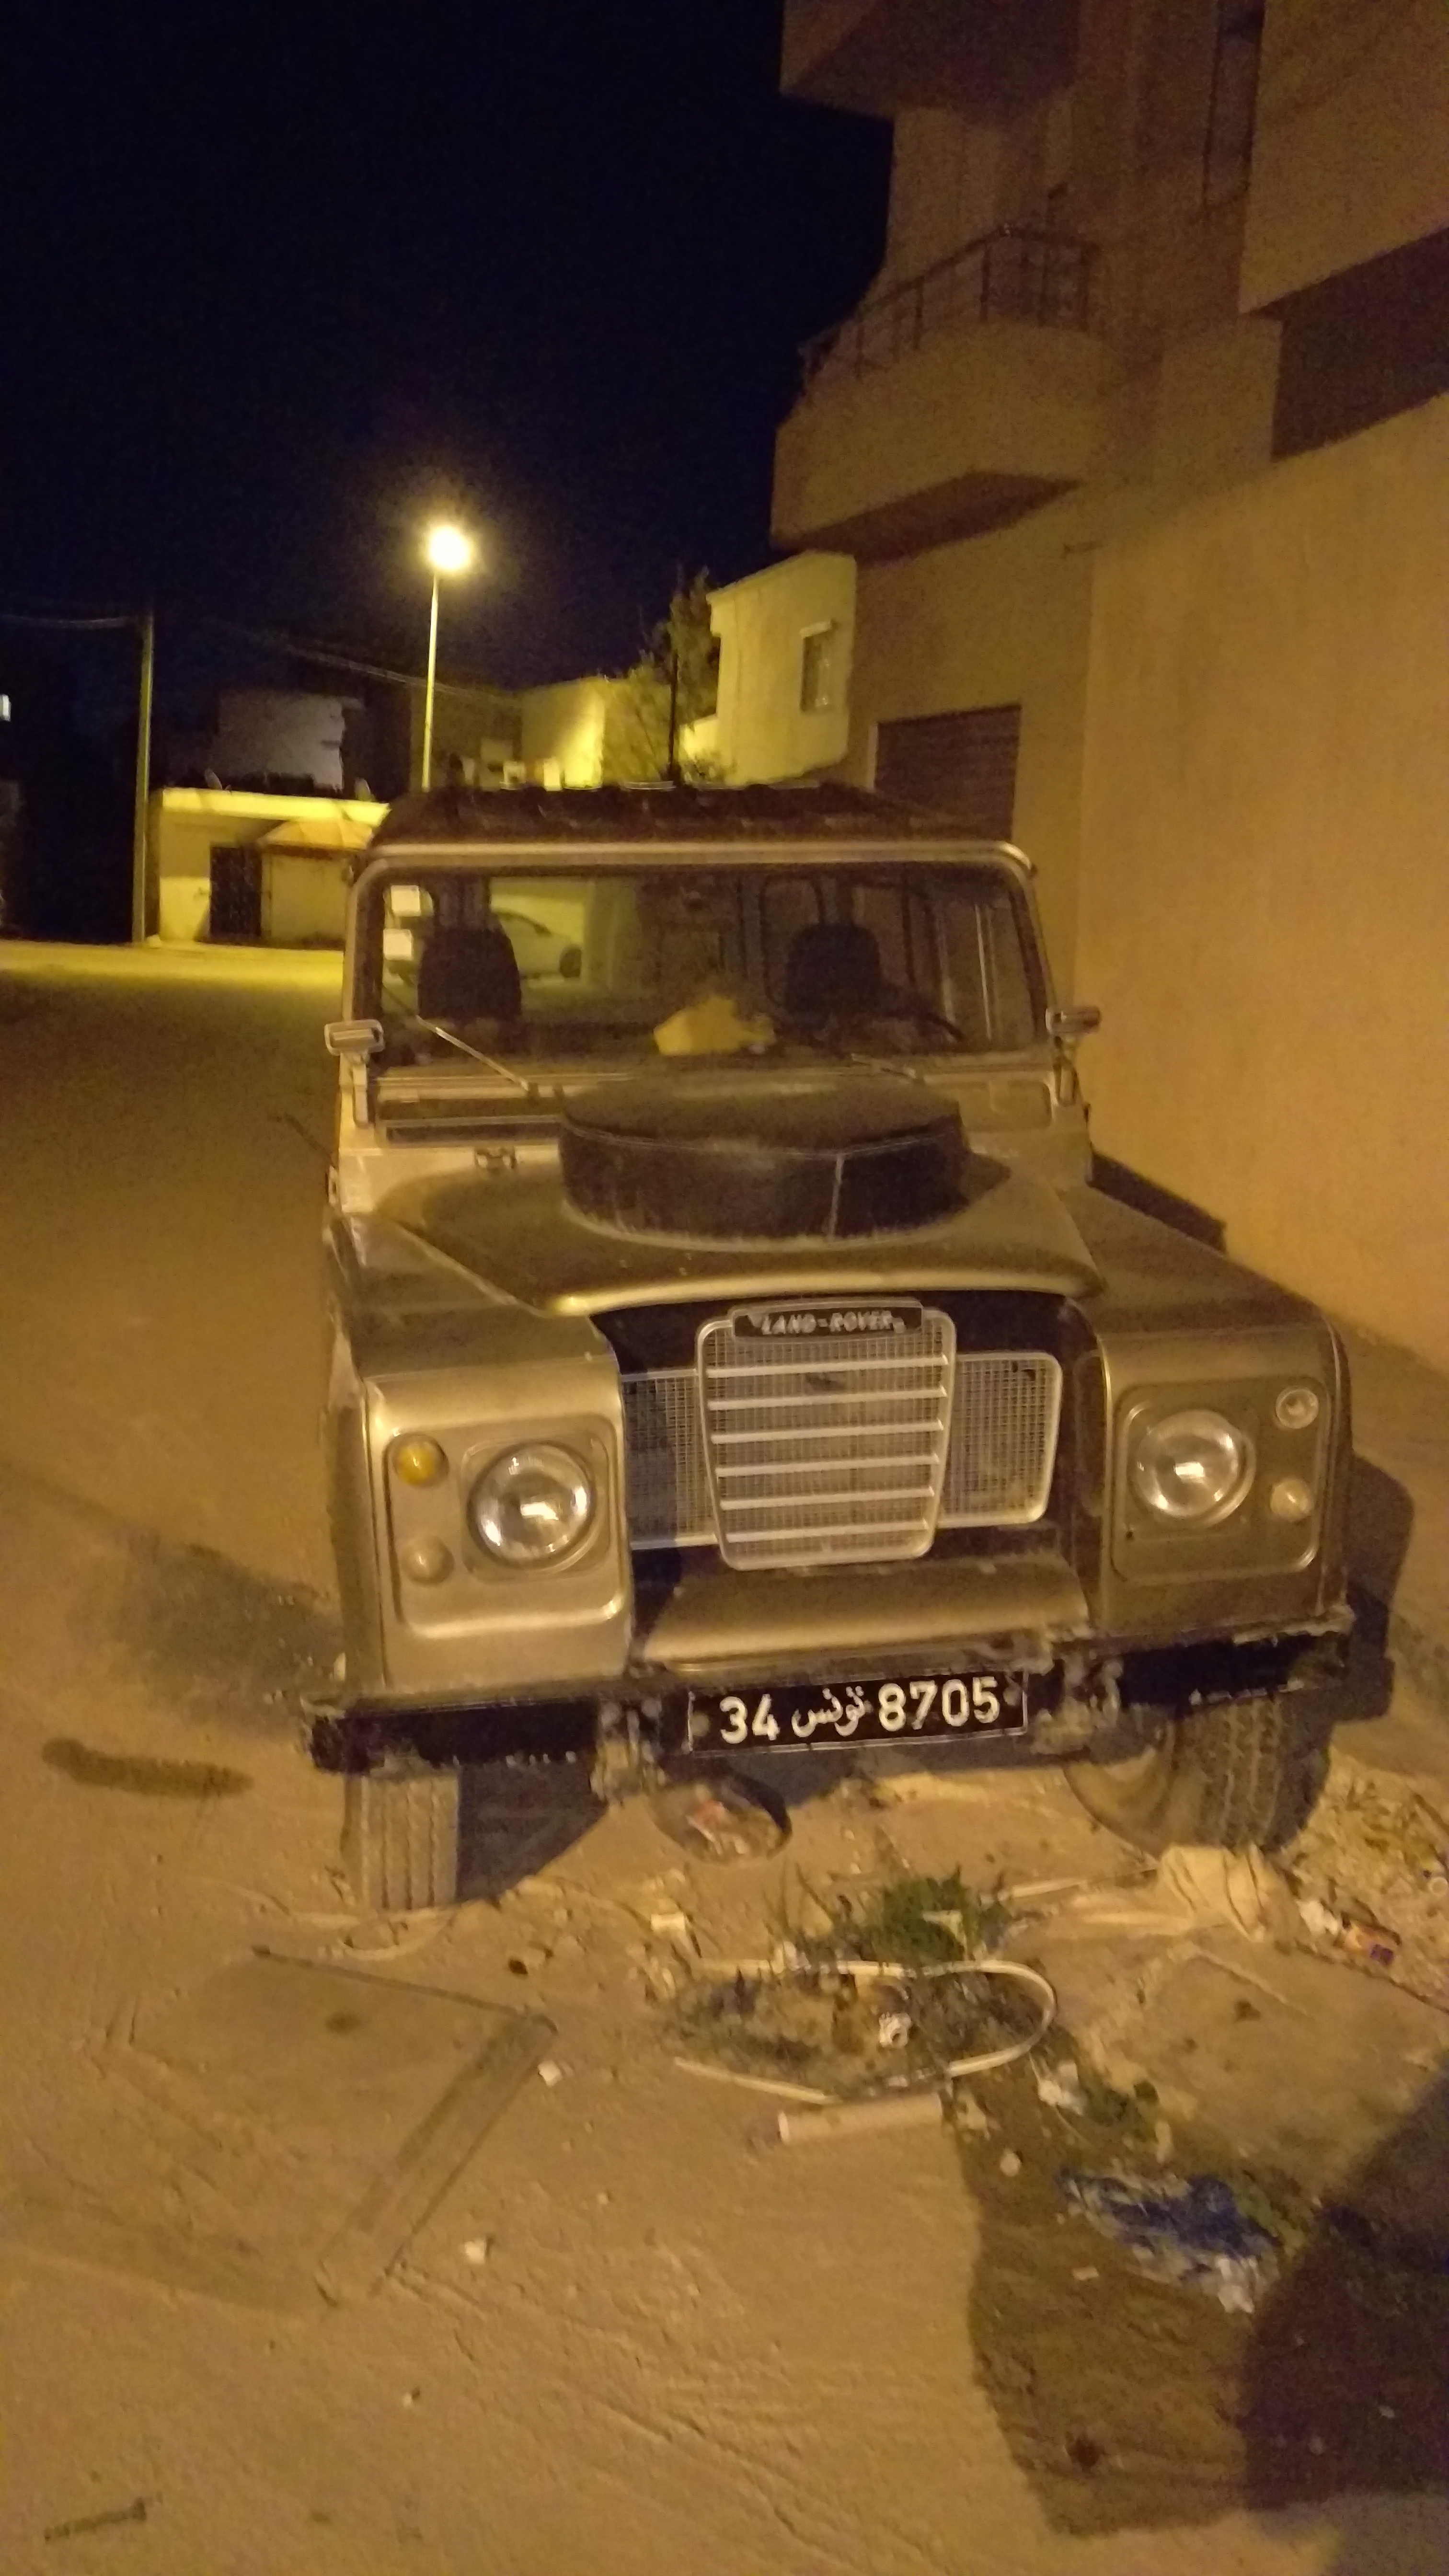LP: (678, 1663, 1053, 1761)
